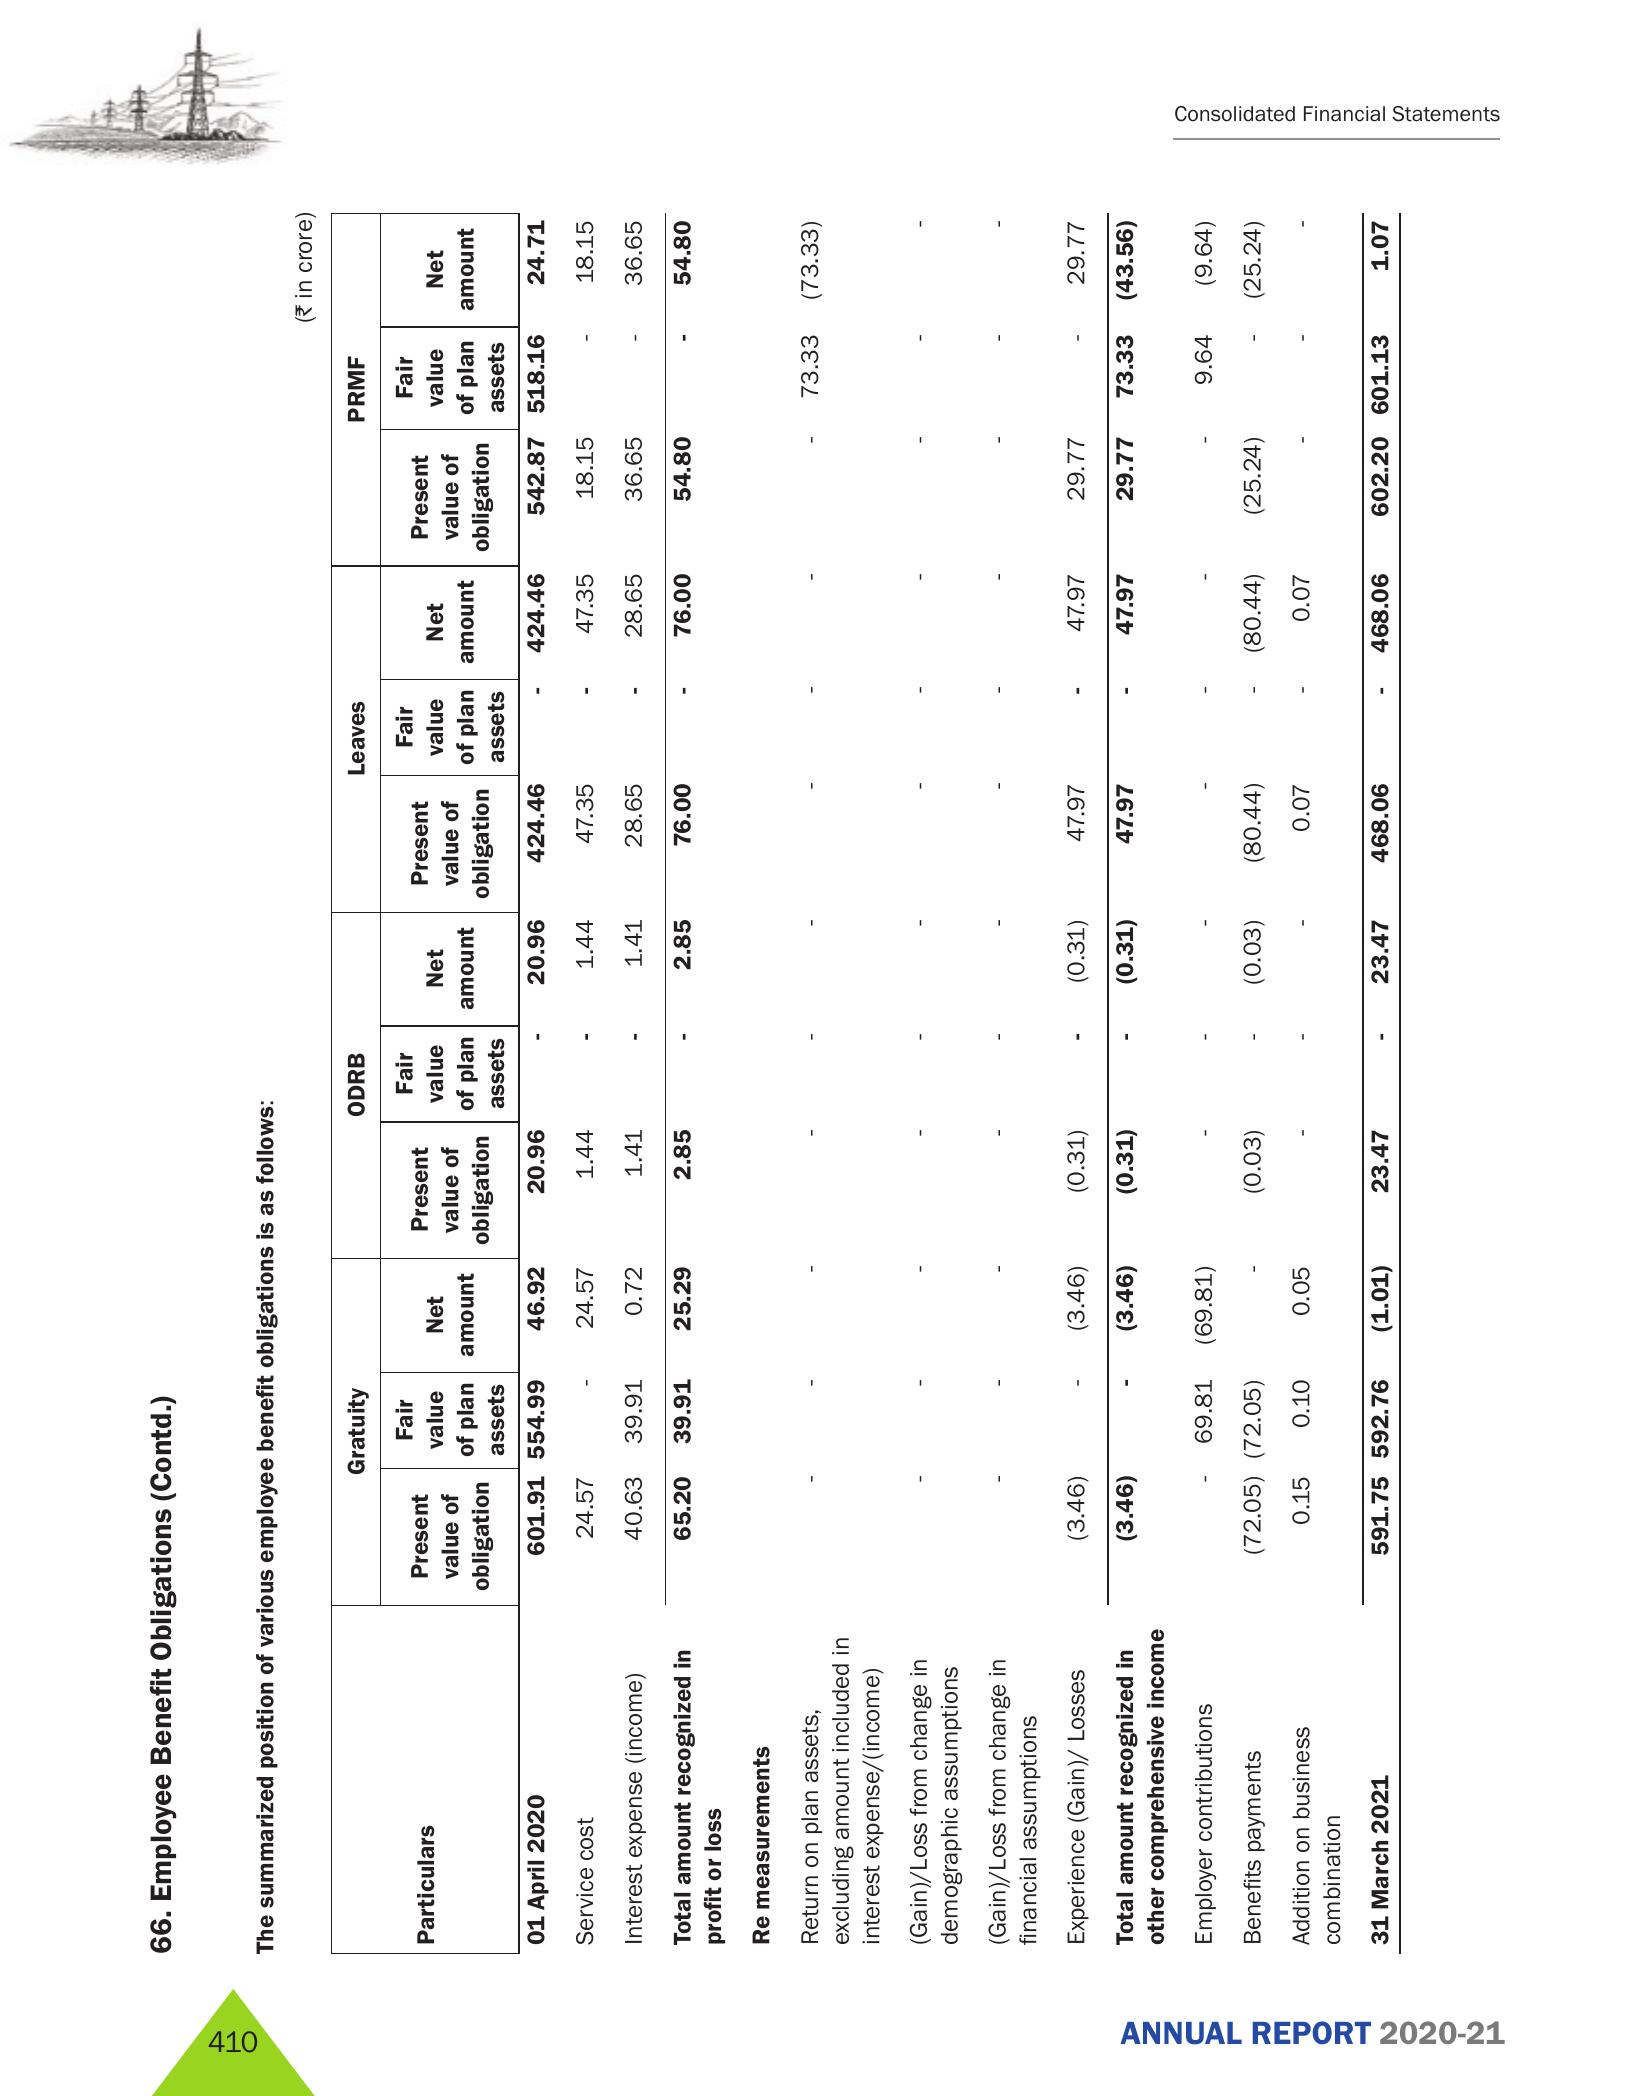Footer: (0, 1979, 1650, 2096)
Header: (0, 0, 1650, 180)
Table: (332, 201, 1408, 1956)
